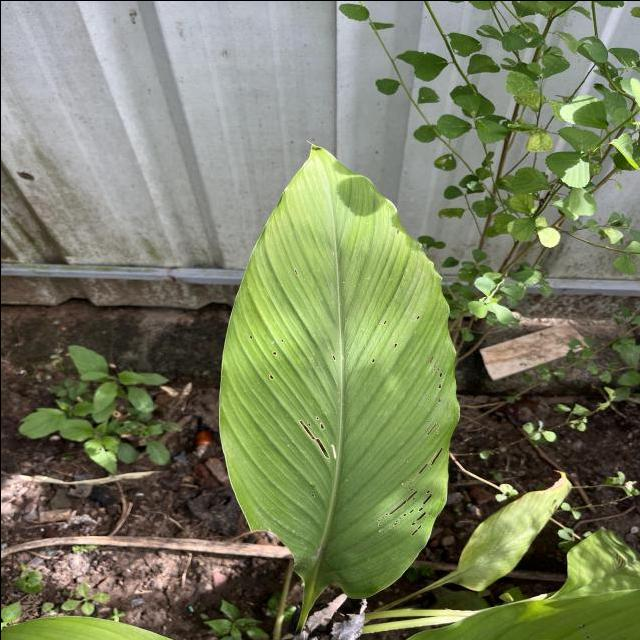Curcuma longa: (213, 138, 462, 602)
